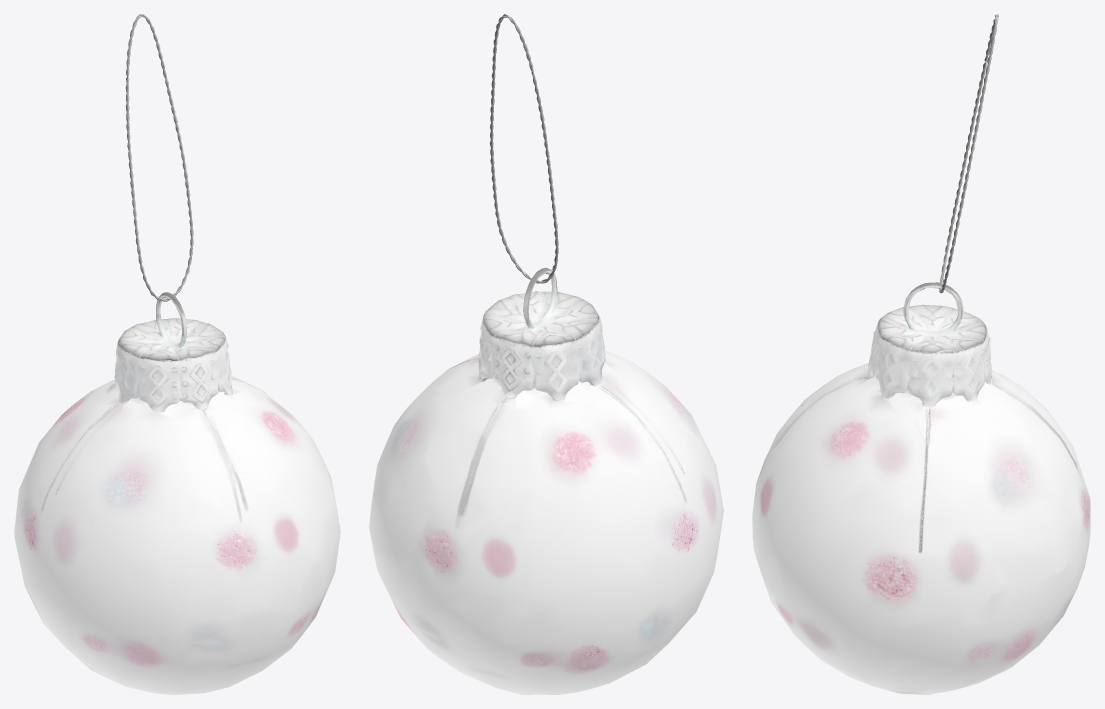
File: Pink_Dotted_orb.glb
3 views of the same model, side by side, from view 1: azimuth 30°, elevation 25°; view 2: azimuth 150°, elevation 25°; view 3: azimuth 270°, elevation 25° (orthographic). The views are drawn at different scales.
Parts seen in each view (by area): view 1: Mesh1.0, GN Instance; view 2: Mesh1.0, GN Instance; view 3: Mesh1.0, GN Instance.
Boxes of the visible parts, x1=… form: Mesh1.0: x1=14, y1=292, x2=340, y2=694; GN Instance: x1=125, y1=14, x2=193, y2=301; Mesh1.0: x1=369, y1=267, x2=723, y2=694; GN Instance: x1=489, y1=14, x2=558, y2=283; Mesh1.0: x1=752, y1=282, x2=1090, y2=694; GN Instance: x1=939, y1=14, x2=998, y2=293.
Bounding box in the file's own units: 0.04 × 0.0865 × 0.04.
2 materials, 1 textured.
